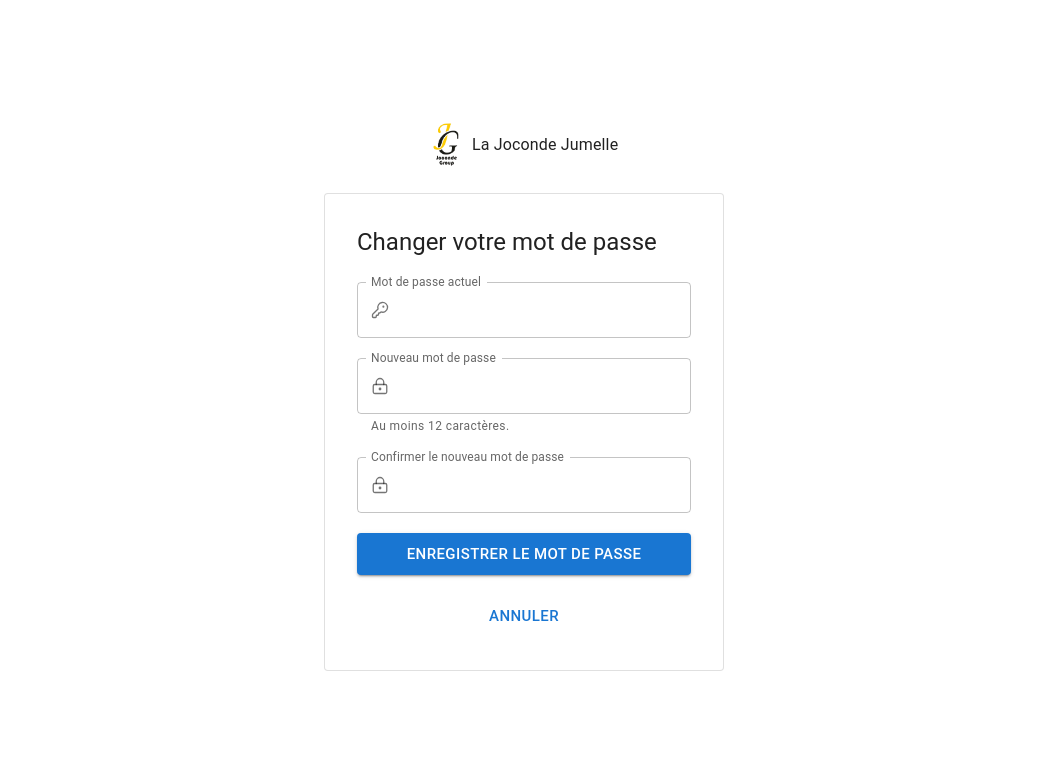
Scenario: ChangePasswordPage — mode volontaire (spec 005, FR-007, FR-008) › après un changement réussi, revient au profil avec la confirmation annoncée
The image size is (1048, 780).
Type "Ancien-mot-de-passe-2026" into the password field labelled "Mot de passe actuel". click: point(544, 310)
box: [397,282,691,338]
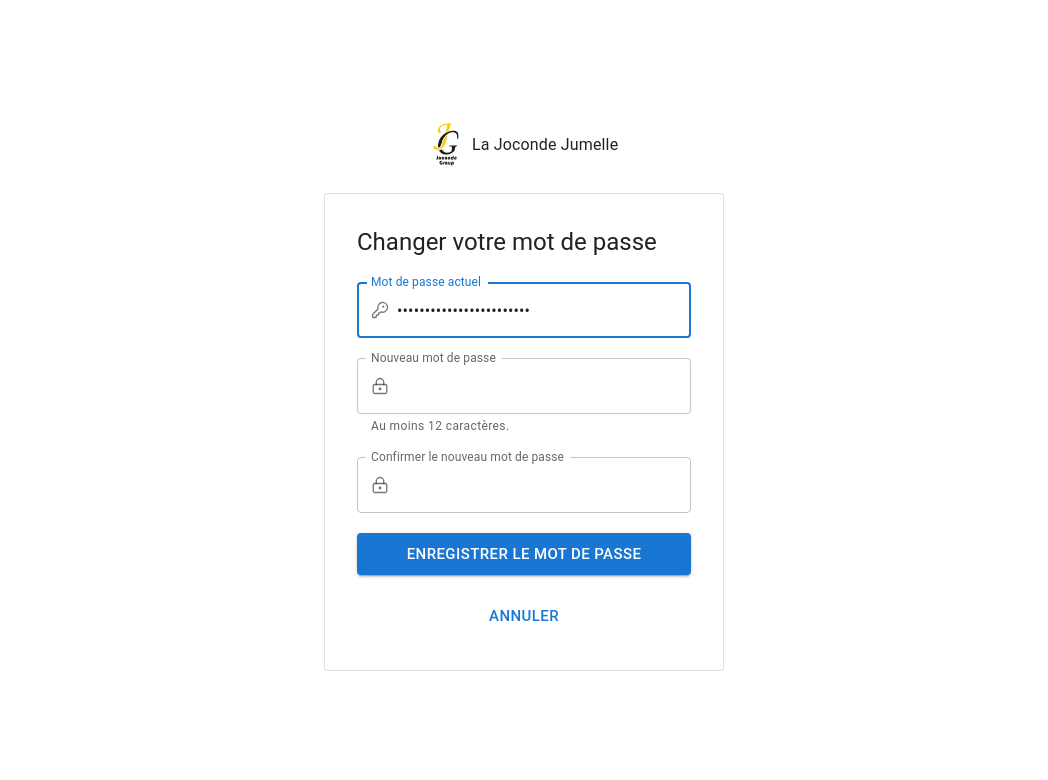
Type "Nouveau-mot-de-passe-2026" into the password field labelled "Nouveau mot de passe". click: point(544, 386)
box: [397,358,691,414]
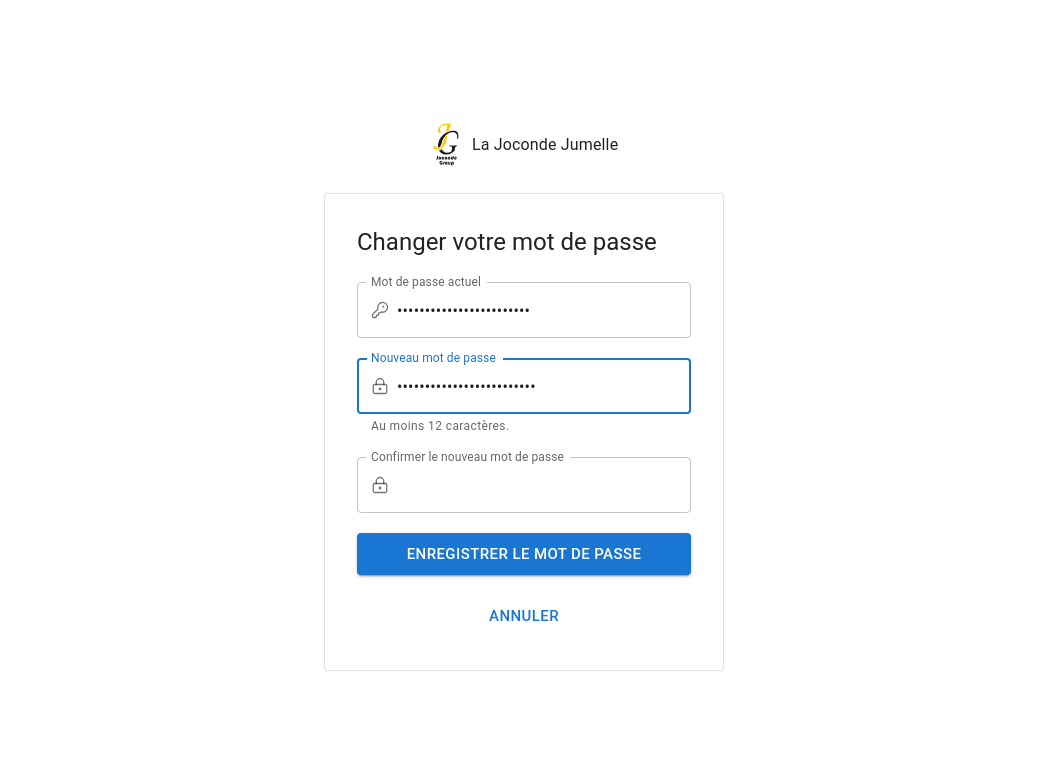
Type "Nouveau-mot-de-passe-2026" into the password field labelled "Confirmer le nouveau mot de passe". click: point(544, 485)
box: [397,457,691,513]
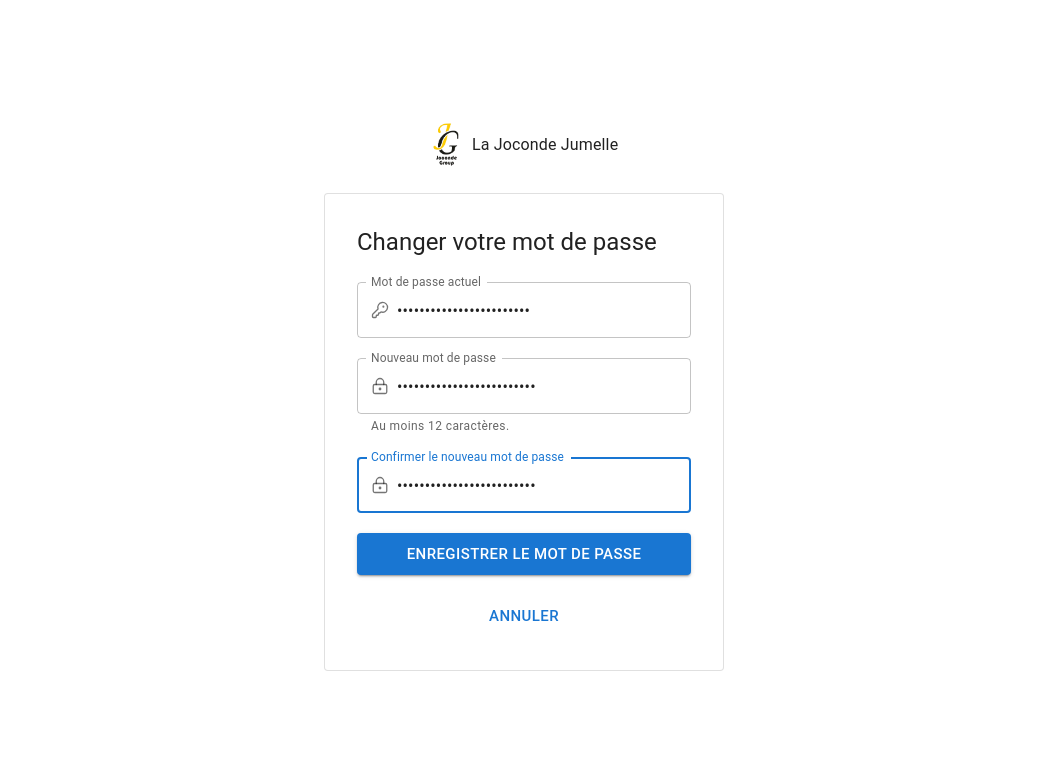
Click the button "Enregistrer le mot de passe". click: point(524, 554)
box: [357,533,691,576]
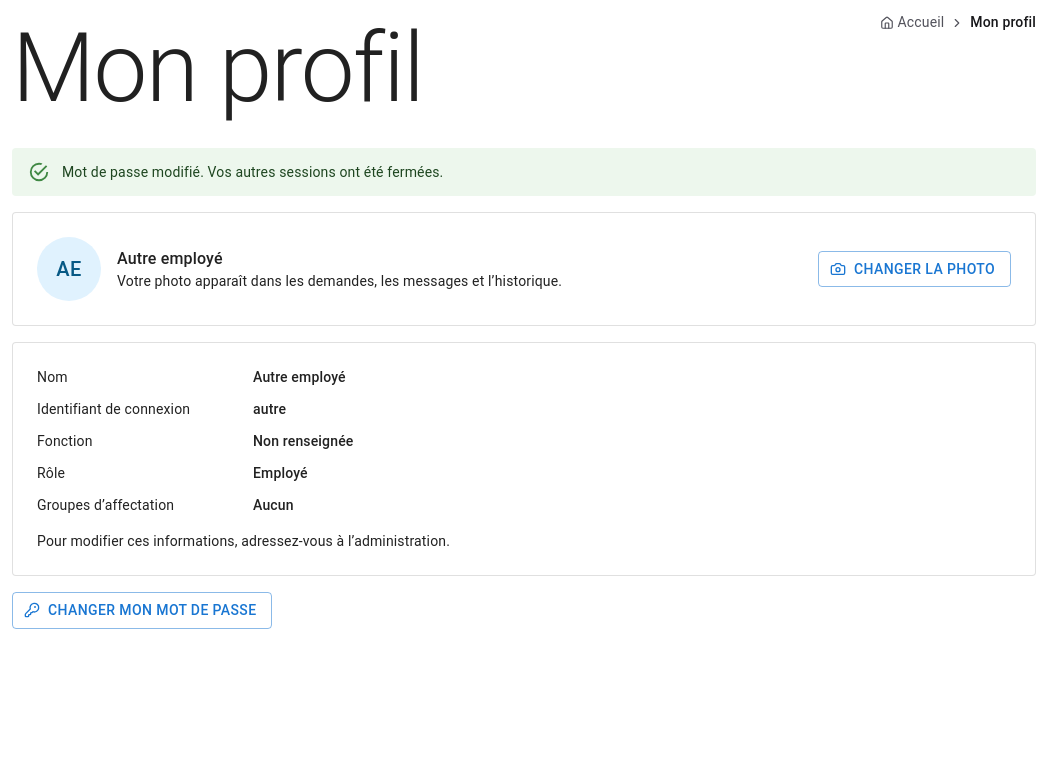
Expected: the heading "Mon profil" is shown, [12,12,423,124]
Expected: the message reads "Mot de passe modifié. Vos autres sessions ont été fermées.", [62,164,443,180]
